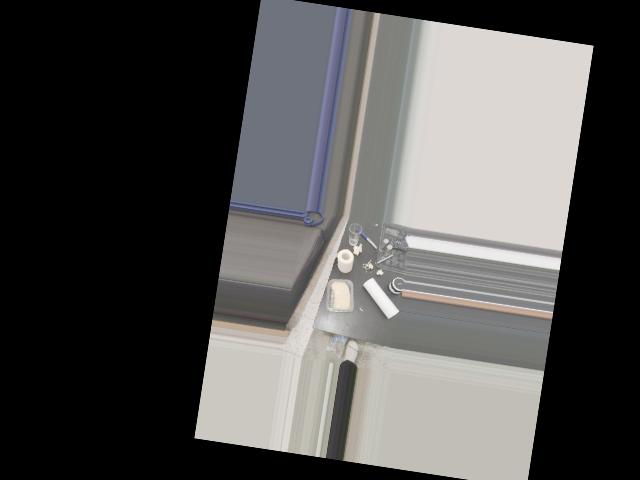cheese: (322, 275, 359, 318)
